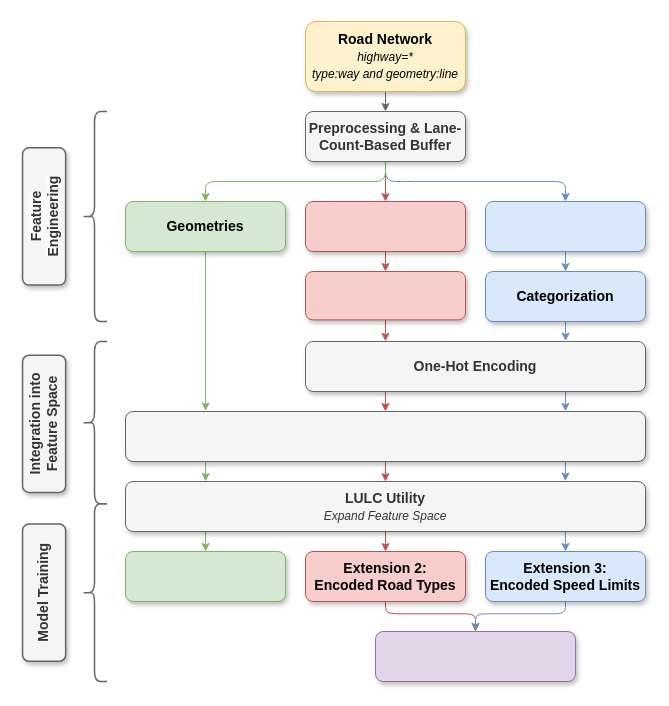
Some shapes in this 669 by 706 pixel diagram are drawn without their labels. Here are the shapes that lost their labels. From the top down, the centre of each, then its label:
point 386,227: Road Types highway tag
point 566,227: Speed Limits maxspeed & speed tags
point 386,296: Hierachical Cluster Analysis
point 386,437: Rasterization
point 206,577: Extension 1: Binary Road Network
point 476,657: Extension 4: Ensemble of Extensions 2 & 3
